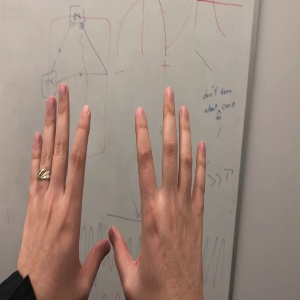hand: (109, 85, 206, 296), (23, 82, 110, 287)
